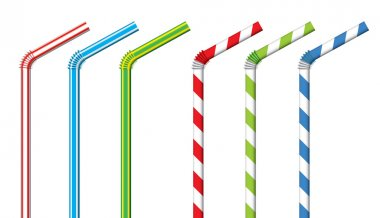Drinking Straw: (117, 20, 192, 218), (189, 20, 264, 218), (295, 20, 370, 218), (66, 21, 141, 218), (243, 20, 317, 218), (17, 19, 90, 218)
